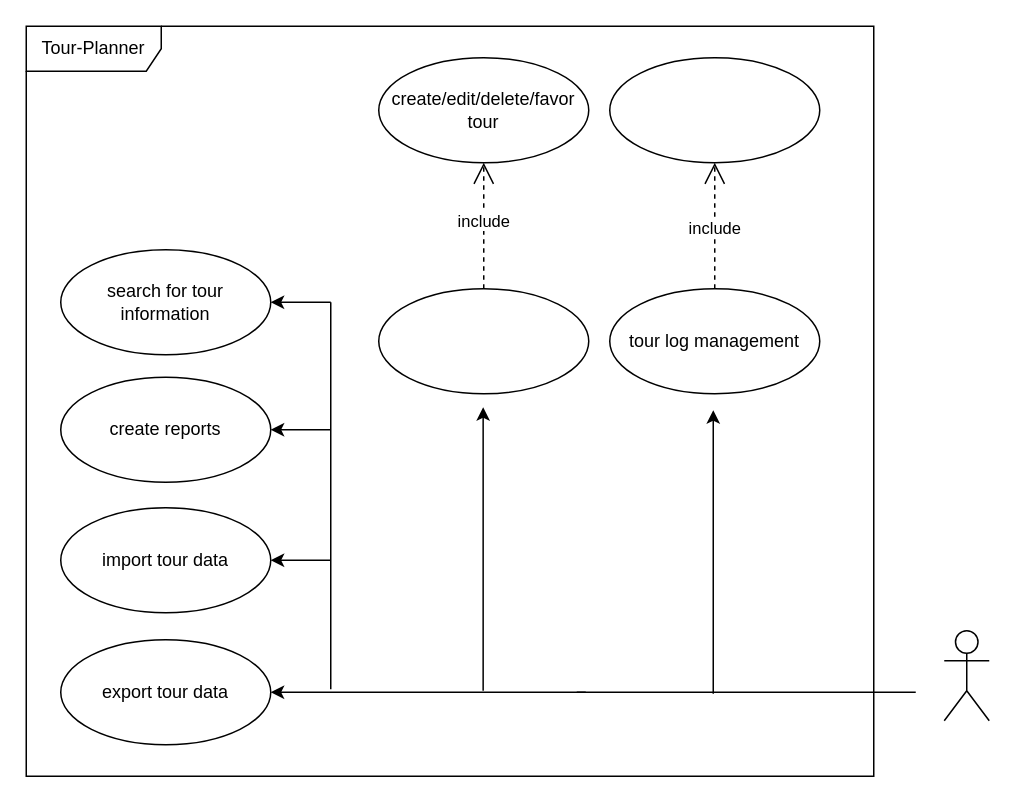
The diagram is 1016 pixels wide and 803 high, and some of its shapes have lost their labels. The box of each missing label's shape, as (x1, y1, x2, y2) in pixels:
create/edit/delete tour logs: (608, 56, 820, 163)
tour management: (377, 287, 589, 394)
user: (943, 629, 989, 721)
